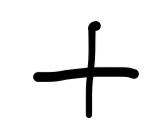plus: (33, 21, 139, 119)
